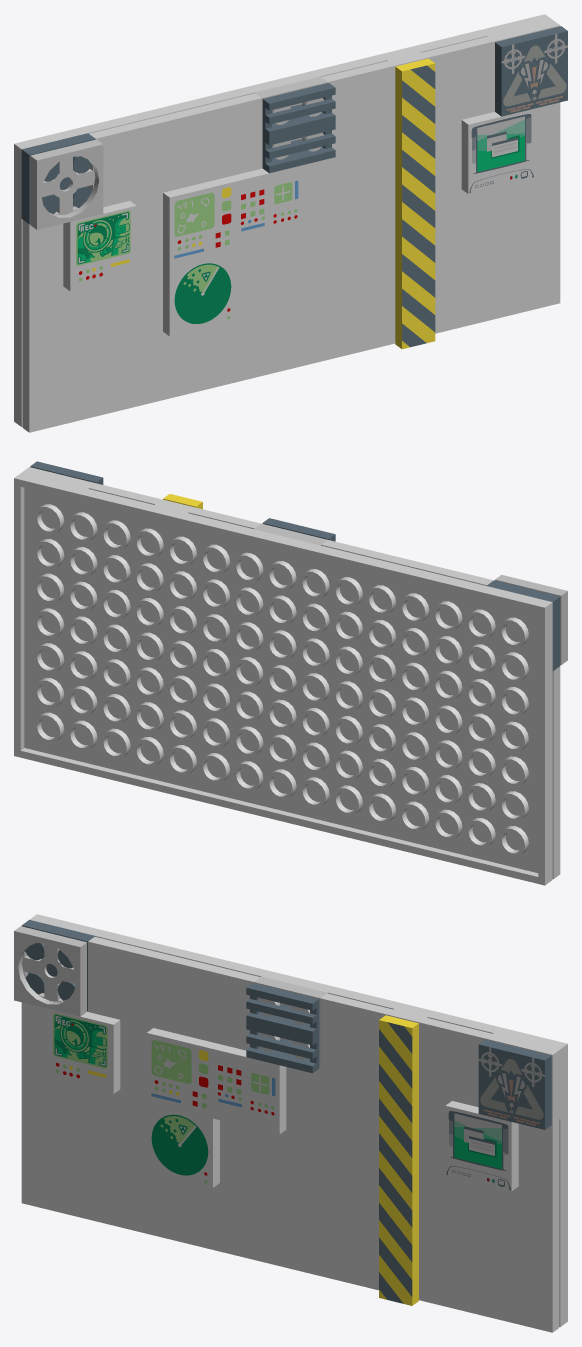
The model's file is LabBackground_Final.fbx.
The picture shows the model from 3 angles, top to bottom: view 1: azimuth 30°, elevation 25°; view 2: azimuth 150°, elevation 25°; view 3: azimuth 330°, elevation 25°; orthographic projection.
Parts seen in each view (by area): view 1: LabBackground; view 2: LabBackground; view 3: LabBackground.
Boxes of the visible parts, x1,y1,x2,y2 form: LabBackground: (14,14,567,432); LabBackground: (14,461,567,885); LabBackground: (14,914,567,1332).
Bounding box in the file's own units: 320 × 160 × 24.
